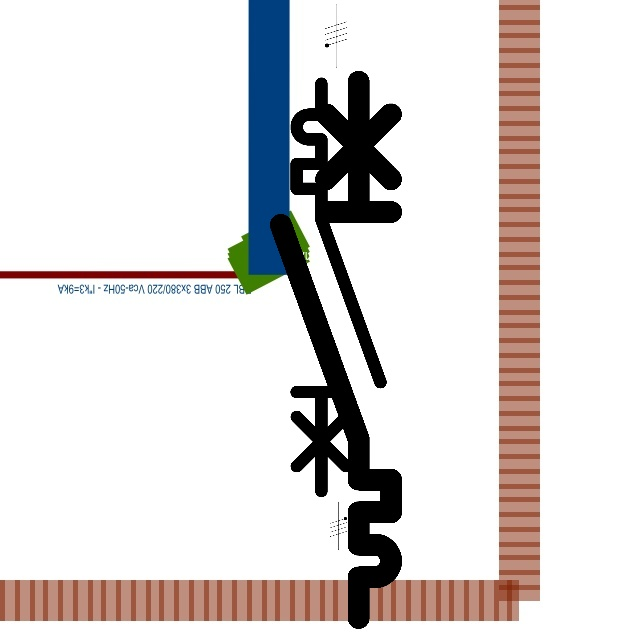interruptor_termomagnetico: (267, 67, 405, 631), (286, 73, 391, 501)
